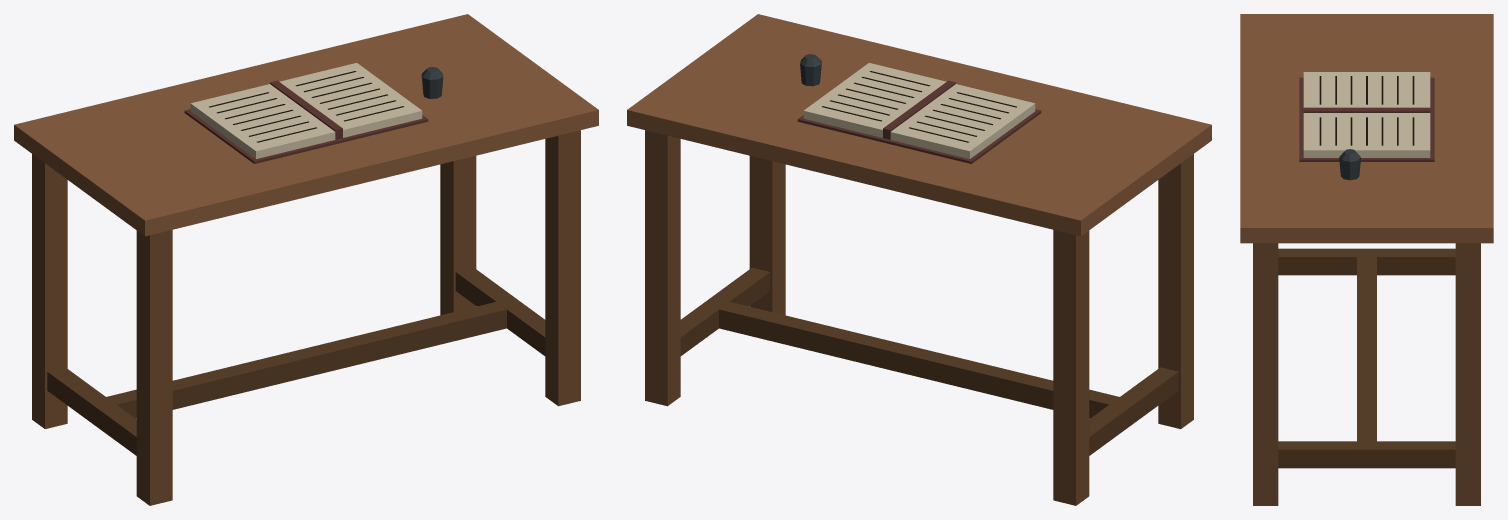
File: ledger-desk.glb
3 renders of one model, left to right at view 1: azimuth 30°, elevation 25°; view 2: azimuth 150°, elevation 25°; view 3: azimuth 270°, elevation 25°, orthographic. The views are drawn at different scales.
Parts seen in each view (by area): view 1: ledger-desk; view 2: ledger-desk; view 3: ledger-desk.
Part boxes in pixels (x1,y1,x2,y2): ledger-desk: (14,14,598,505); ledger-desk: (627,14,1211,505); ledger-desk: (1240,14,1493,505).
Size of the model in its own units: 1.2 by 0.805 by 0.6001.
1 material, 1 textured.
